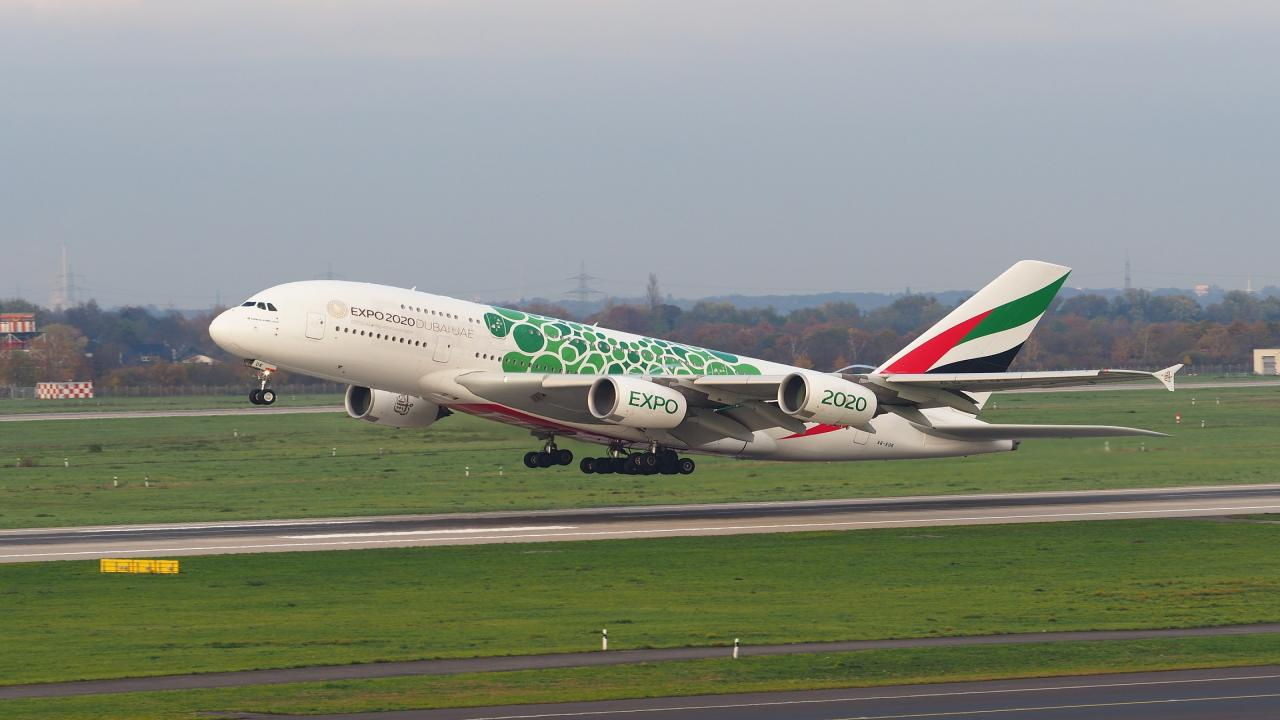Airplane: (199, 246, 1203, 480)
